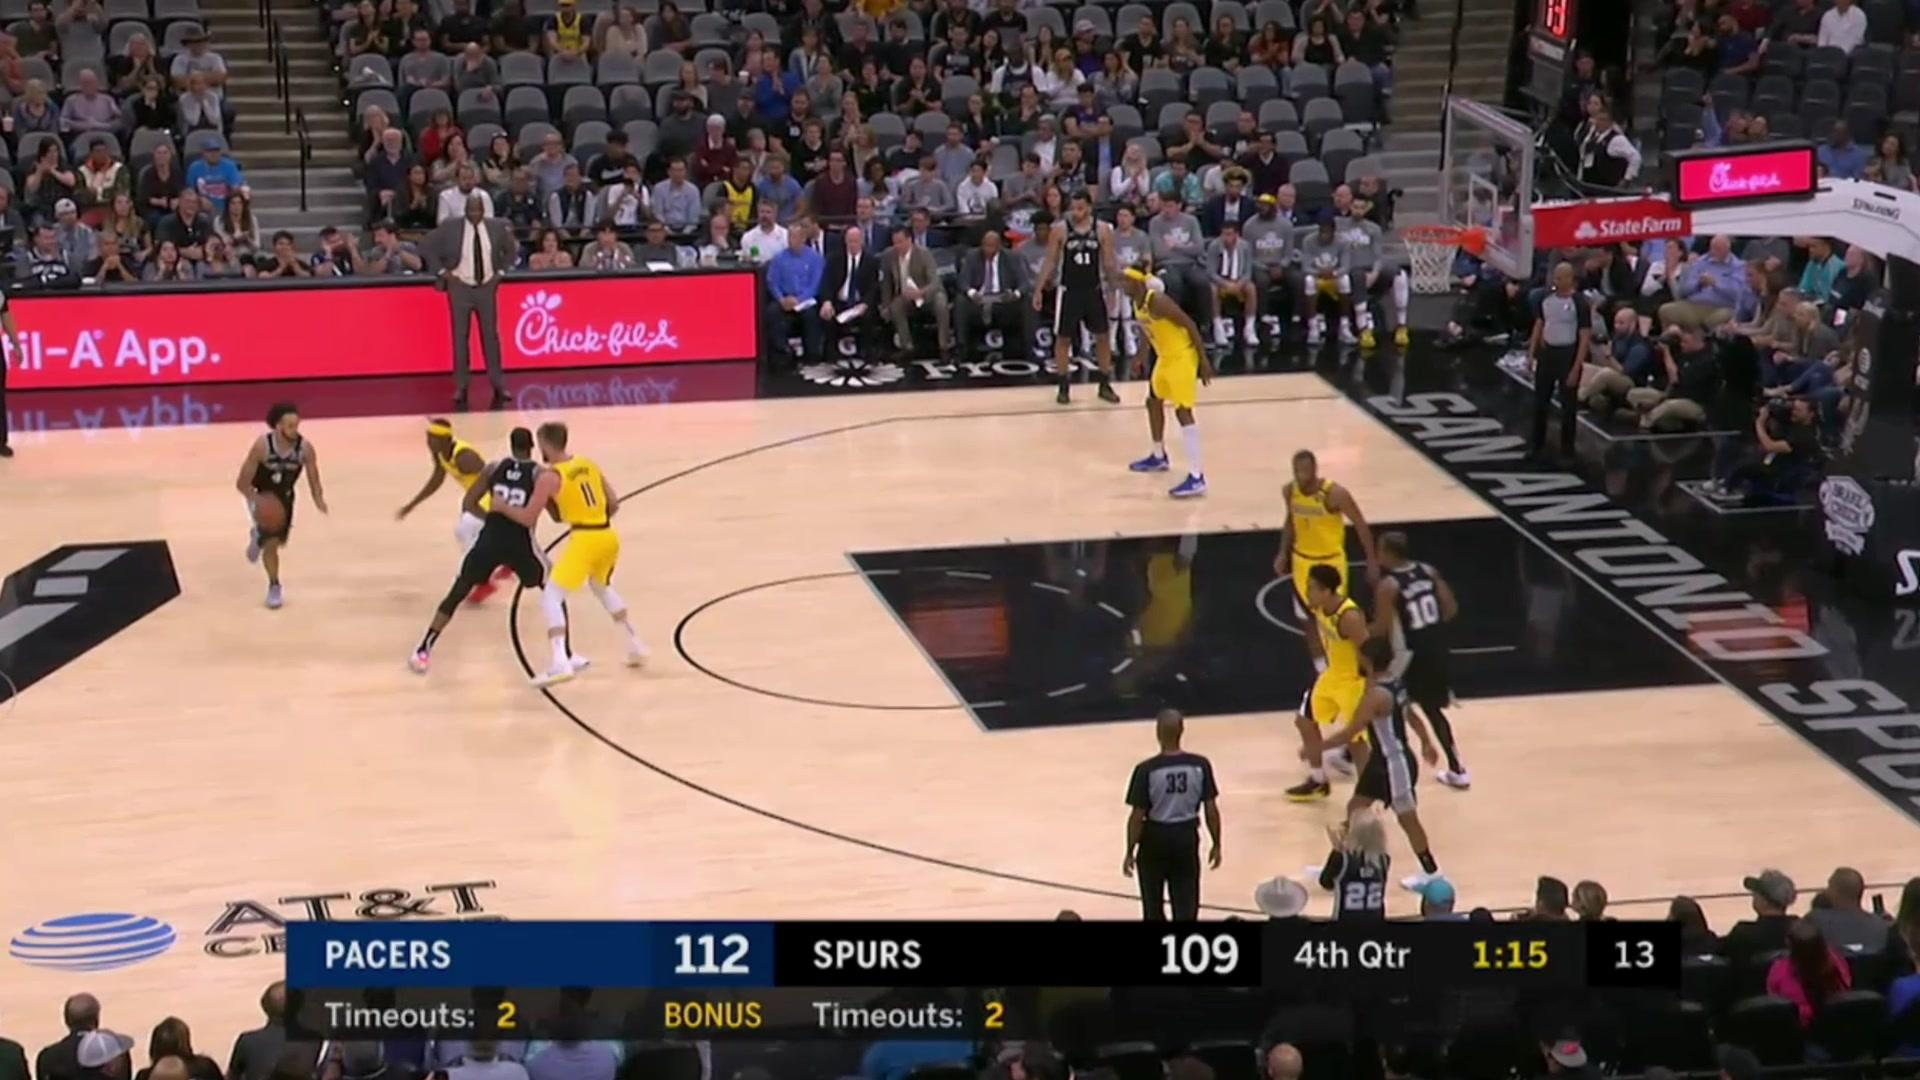no_foul: (479, 415, 621, 673)
